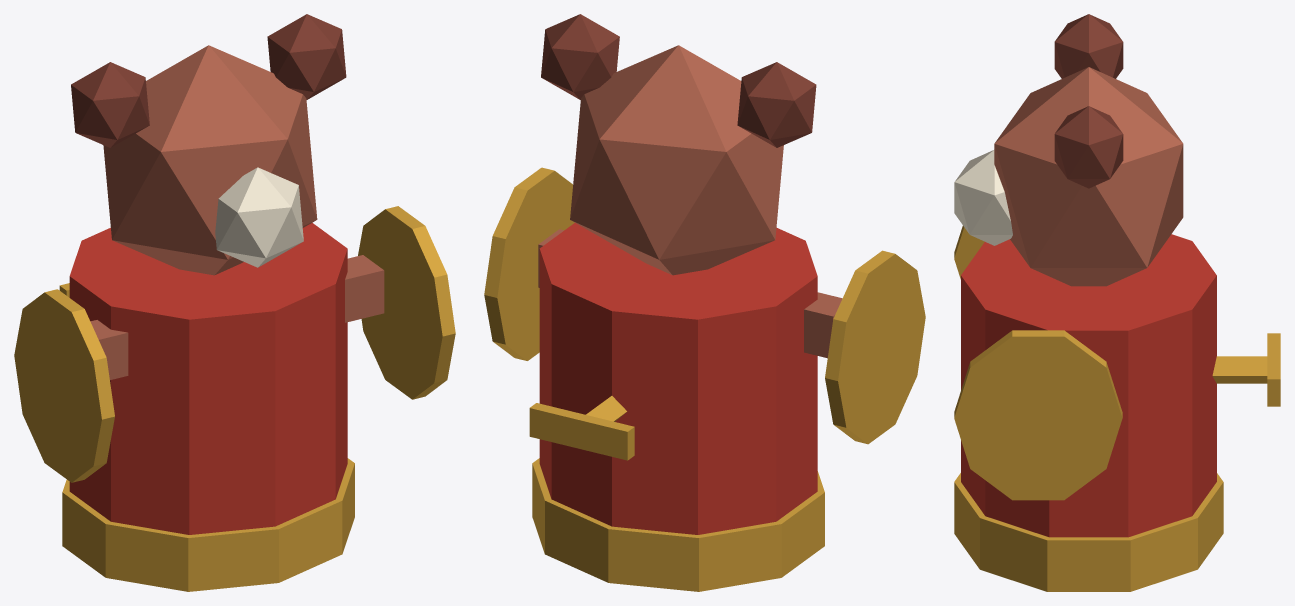
Rendered from CymbalMonkey.fbx.
The picture shows the model from 3 angles, left to right: view 1: azimuth 30°, elevation 25°; view 2: azimuth 150°, elevation 25°; view 3: azimuth 270°, elevation 25°; orthographic projection. The views are drawn at different scales.
Visible parts, largest first — view 1: CymbalMonkey; view 2: CymbalMonkey; view 3: CymbalMonkey.
Part boxes in pixels (x1,y1,x2,y2): CymbalMonkey: [14, 14, 455, 591]; CymbalMonkey: [484, 14, 925, 591]; CymbalMonkey: [954, 14, 1280, 591].
Size of the model in its own units: 1.2 by 1.6 by 1.
